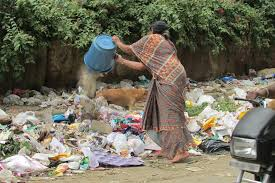garbage: (1, 95, 95, 174), (68, 109, 142, 169), (189, 79, 233, 142)
